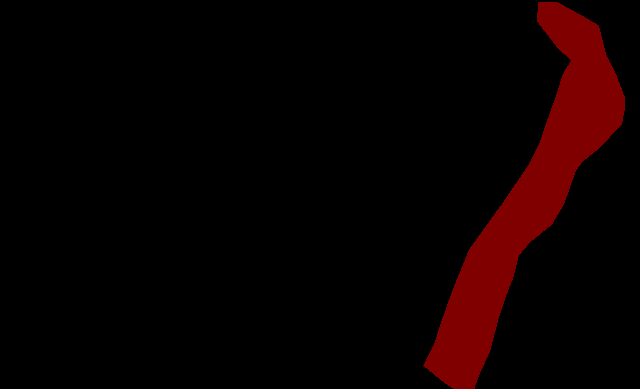fire: (423, 2, 624, 388)
